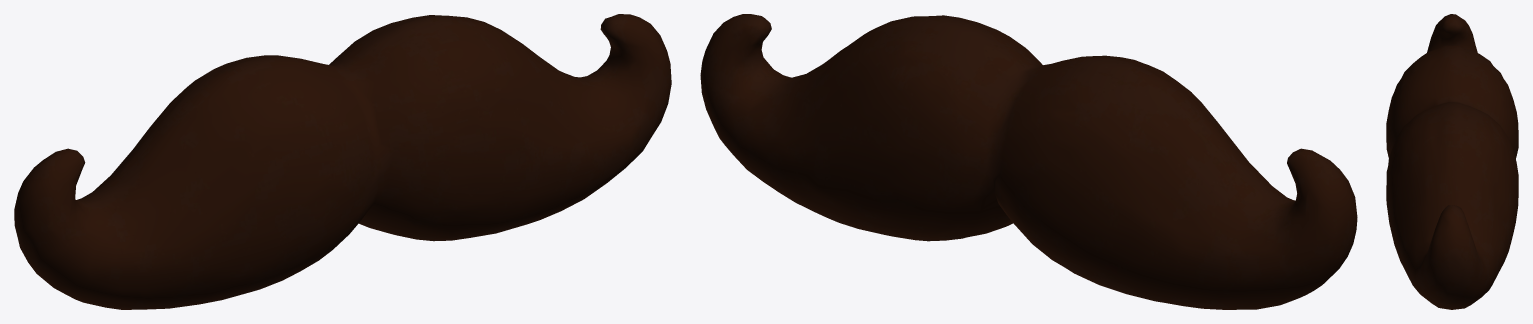
Rendered from stache.glb.
The picture shows the model from 3 angles, left to right: view 1: azimuth 30°, elevation 25°; view 2: azimuth 150°, elevation 25°; view 3: azimuth 270°, elevation 25°; orthographic projection. The views are drawn at different scales.
Parts seen in each view (by area): view 1: world; view 2: world; view 3: world.
Part boxes in pixels (x1,y1,x2,y2): world: (14, 14, 671, 309); world: (700, 14, 1357, 309); world: (1386, 14, 1518, 309).
Bounding box in the file's own units: 1 × 0.3235 × 0.2522.
Materials: 1 (1 with a texture image).
